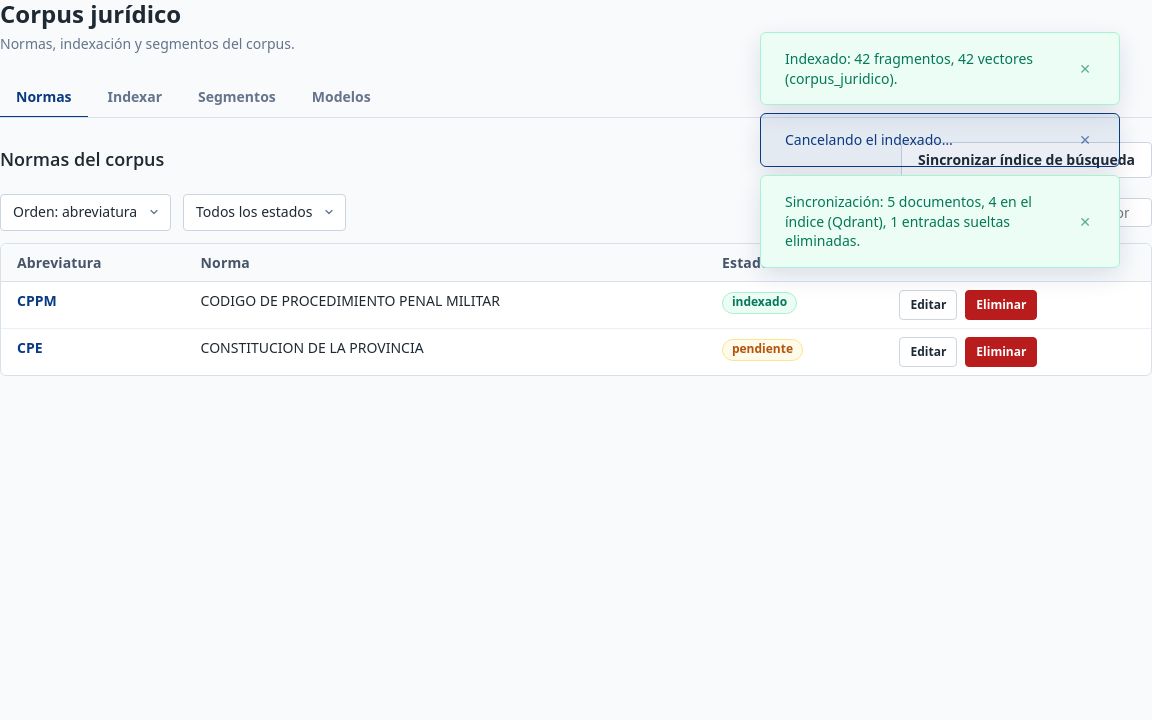
Test: Corpus: eliminar norma con ConfirmDialog › eliminar requiere confirmación, cancela no ejecuta y recarga al confirmar
Expected: the text "CODIGO DE PROCEDIMIENTO PENAL MILITAR" is shown, [185,282,706,329]
Click the button with aria-label "Eliminar CPPM" at (1001, 305), box [965,290,1037,320]
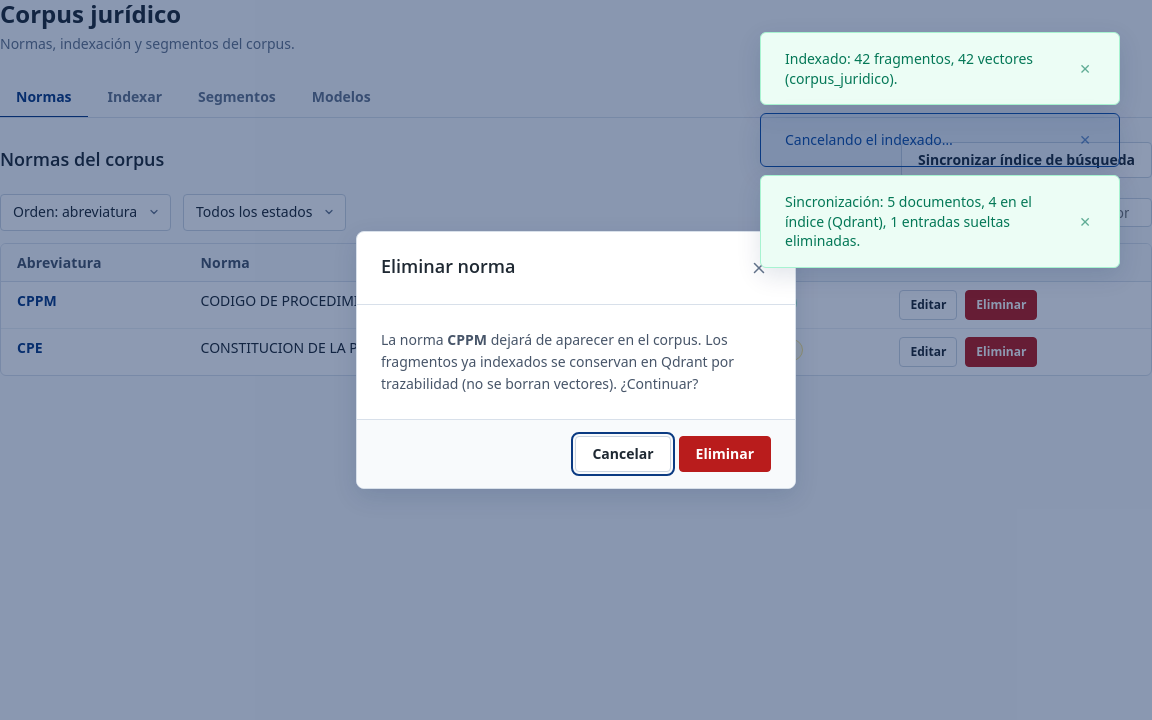
Result: the dialog "Eliminar norma" is shown at [356,232,796,489]
Note: Cancelar no llama a la API.
Click the button "Cancelar" at (623, 454), box [576,436,671,472]
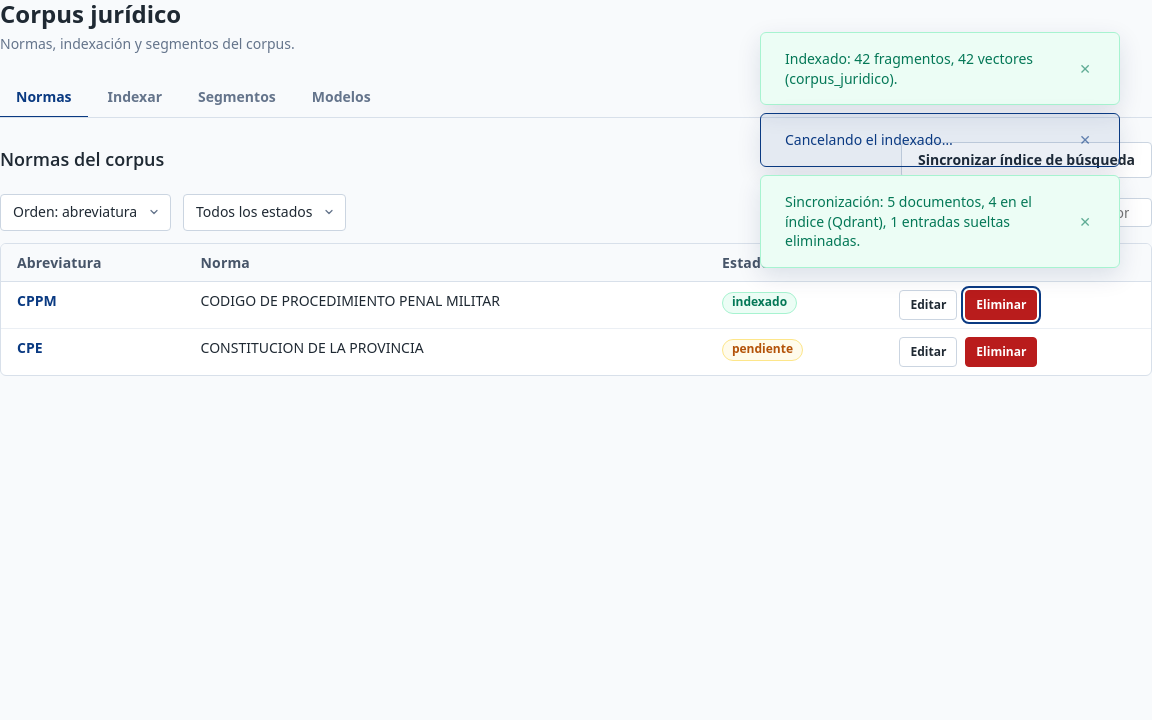
Note: Confirmar → llama con el norma_id de la fila, cierra y recarga.
Click the button with aria-label "Eliminar CPPM" at (1001, 305), box [965,290,1037,320]
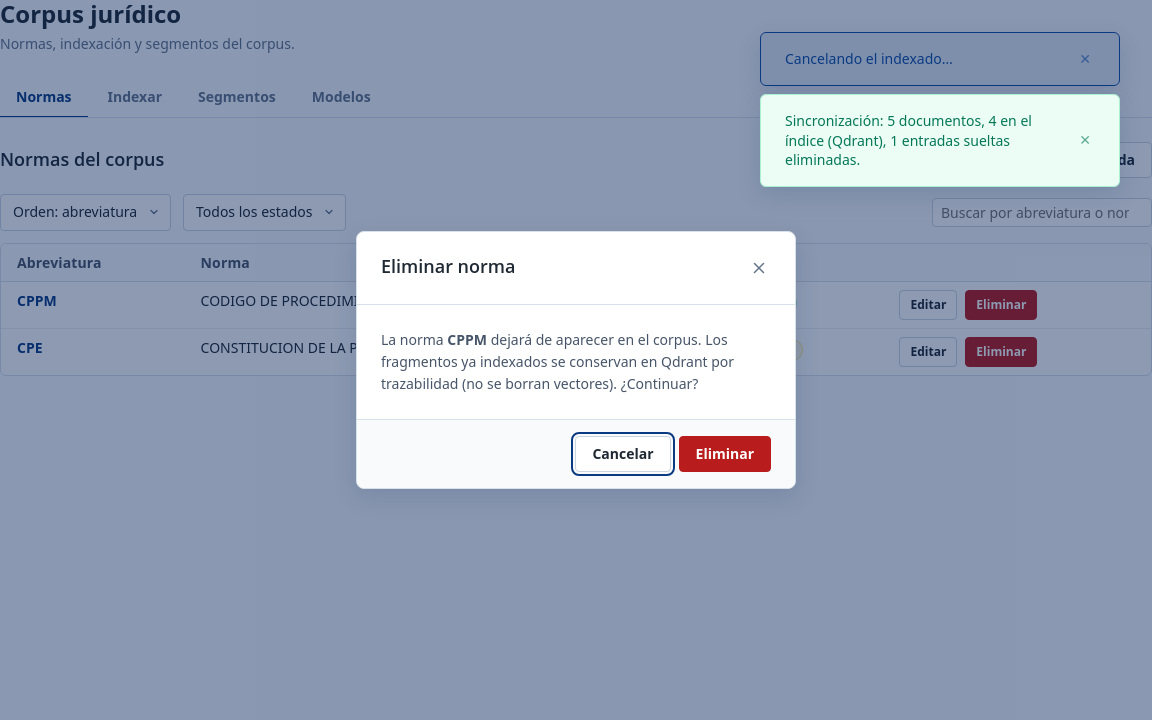
Click the button "Eliminar" at (725, 454), box [679,436,771,472]
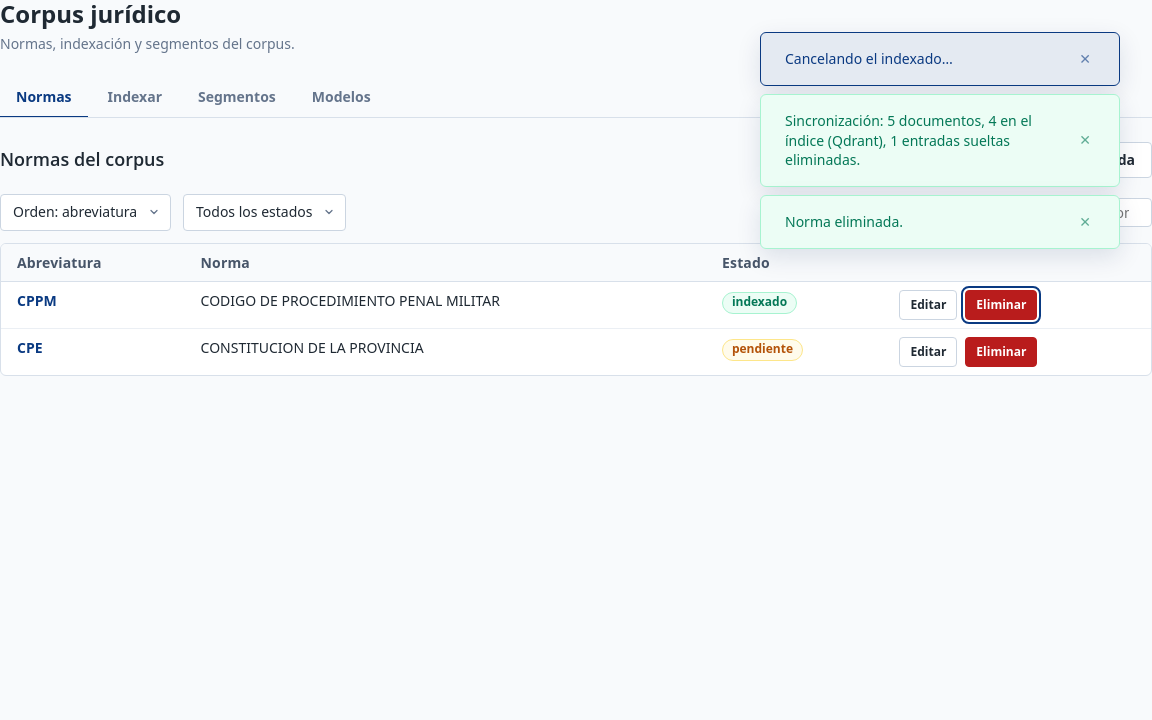
Result: the dialog is gone
Result: the text "Norma eliminada." is shown at [785,212,903,231]
